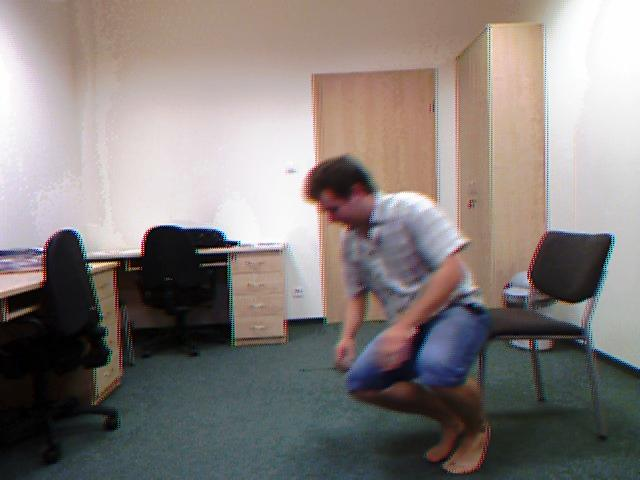near-fall: (294, 147, 511, 479)
